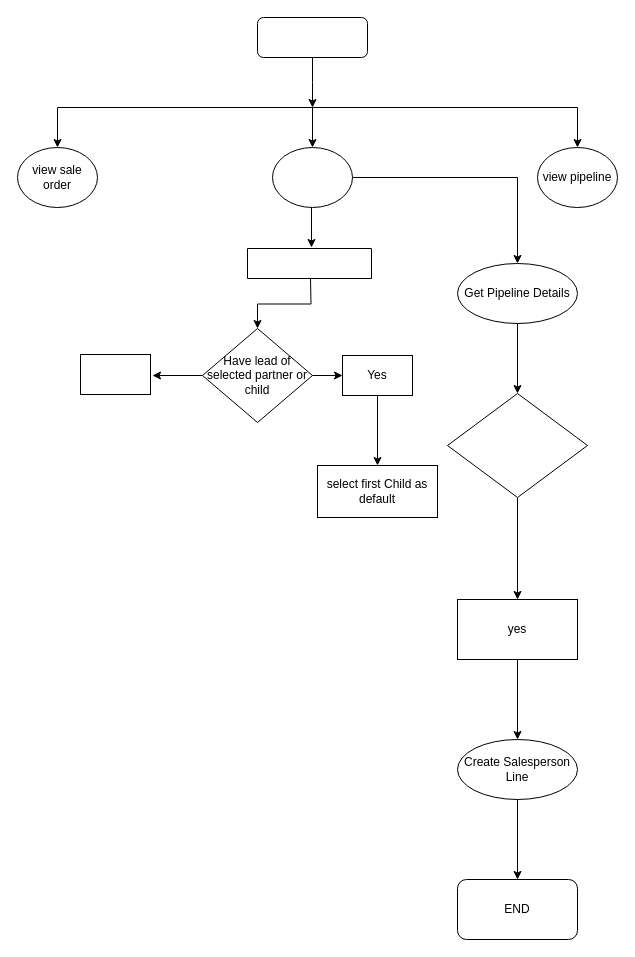
This 635x957 diagram has some shape labels left out. The box of each missing label's shape, as (x1, y1, x2, y2) in pixels:
create: (272, 146, 352, 208)
have lead of releated selected leads's salesperson: (446, 392, 588, 498)
No: (80, 354, 150, 394)
select partner: (246, 248, 372, 278)
start: (256, 16, 368, 58)
